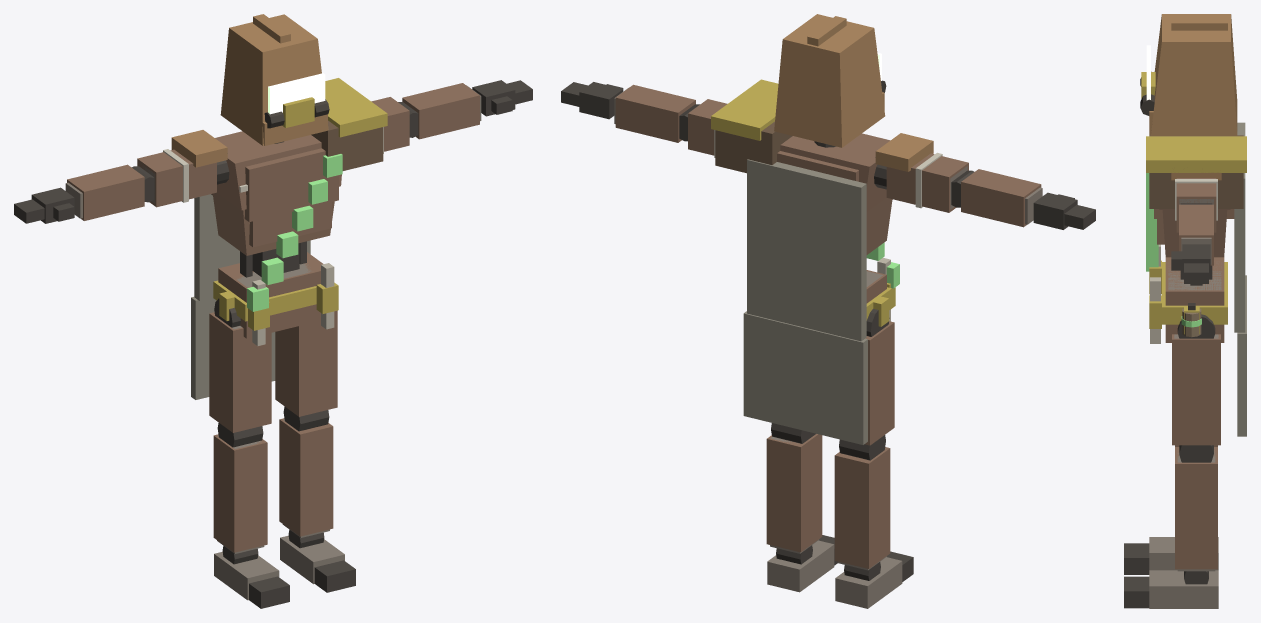
The model's file is char_P_security.glb.
The picture shows the model from 3 angles, left to right: view 1: azimuth 30°, elevation 25°; view 2: azimuth 150°, elevation 25°; view 3: azimuth 270°, elevation 25°; orthographic projection. The views are drawn at different scales.
Visible parts, largest first — view 1: UpperChest_mesh, Head_mesh, Hips_mesh, RightLowerLeg_mesh, LeftLowerLeg_mesh, RightUpperLeg_mesh, LeftUpperLeg_mesh, Chest_mesh, RightUpperArm_mesh, LeftShoulder_mesh, RightLowerArm_mesh, LeftLowerArm_mesh (+8 smaller); view 2: UpperChest_mesh, Hips_mesh, Head_mesh, RightLowerLeg_mesh, LeftLowerLeg_mesh, LeftShoulder_mesh, RightUpperArm_mesh, RightLowerArm_mesh, LeftLowerArm_mesh, RightUpperLeg_mesh, LeftFoot_mesh, RightFoot_mesh (+4 smaller); view 3: Head_mesh, LeftUpperLeg_mesh, LeftShoulder_mesh, LeftLowerLeg_mesh, Hips_mesh, LeftFoot_mesh, UpperChest_mesh, Chest_mesh, LeftUpperArm_mesh, LeftLowerArm_mesh, LeftHand_mesh, RightFoot_mesh (+4 smaller).
Boxes of the visible parts, <box> form: UpperChest_mesh: <box>194,131,342,300</box>; Head_mesh: <box>220,14,329,145</box>; Hips_mesh: <box>191,252,338,399</box>; RightLowerLeg_mesh: <box>213,423,267,553</box>; LeftLowerLeg_mesh: <box>279,406,333,537</box>; RightUpperLeg_mesh: <box>209,298,271,432</box>; LeftUpperLeg_mesh: <box>275,310,337,416</box>; Chest_mesh: <box>212,192,334,311</box>; RightUpperArm_mesh: <box>137,130,227,207</box>; LeftShoulder_mesh: <box>311,78,387,170</box>; RightLowerArm_mesh: <box>65,164,154,220</box>; LeftLowerArm_mesh: <box>398,83,481,139</box>; UpperChest_mesh: <box>747,133,892,341</box>; Hips_mesh: <box>743,270,895,444</box>; Head_mesh: <box>774,14,886,147</box>; RightLowerLeg_mesh: <box>834,435,890,570</box>; LeftLowerLeg_mesh: <box>766,423,822,553</box>; LeftShoulder_mesh: <box>711,79,792,173</box>; RightUpperArm_mesh: <box>875,133,968,212</box>; RightLowerArm_mesh: <box>951,169,1042,227</box>; LeftLowerArm_mesh: <box>614,84,699,142</box>; RightUpperLeg_mesh: <box>865,308,894,445</box>; LeftFoot_mesh: <box>767,540,834,592</box>; RightFoot_mesh: <box>835,557,902,608</box>; Head_mesh: <box>1140,14,1237,135</box>; LeftUpperLeg_mesh: <box>1172,314,1220,445</box>; LeftShoulder_mesh: <box>1146,135,1246,208</box>; LeftLowerLeg_mesh: <box>1175,445,1217,571</box>; Hips_mesh: <box>1149,257,1246,436</box>; LeftFoot_mesh: <box>1149,570,1218,608</box>; UpperChest_mesh: <box>1146,122,1245,332</box>; Chest_mesh: <box>1146,210,1227,271</box>; LeftUpperArm_mesh: <box>1171,172,1221,232</box>; LeftLowerArm_mesh: <box>1179,203,1213,265</box>; LeftHand_mesh: <box>1171,244,1210,283</box>; RightFoot_mesh: <box>1149,537,1218,570</box>.
Size of the model in its own units: 1.92 by 1.97 by 0.39.
